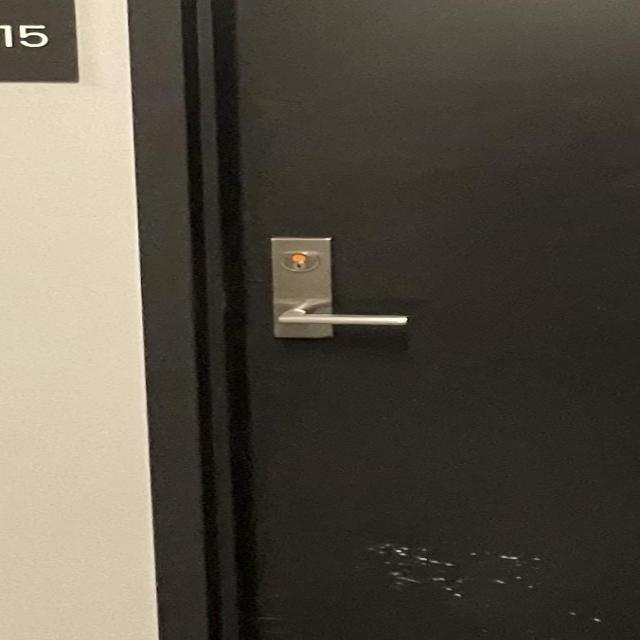door_handle: (247, 290, 427, 342)
